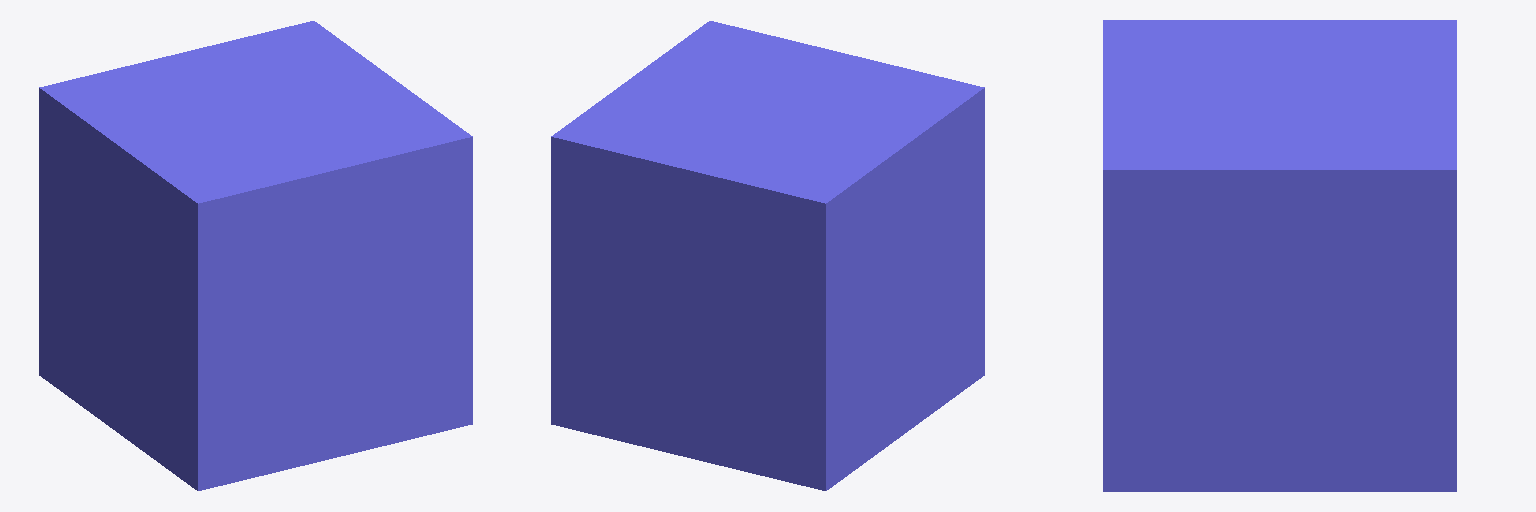
The robot description file, URDF, robot "unit_cube":
<?xml version="1.0"?>
<robot name="unit_cube">
  <material name="black">
    	<color rgba="0.5 0.5 1 1"/>
  </material>
	  
  <link name="base_link">
    <visual>
      <geometry>
        <box size="0.25 0.25 0.25"/>
      </geometry>
      <material name="black"/>
    </visual>
    <collision>
	<origin xyz="0 0 0" rpy="0 0 0"></origin>
	<geometry>
            <box size="0.25 0.25 0.25"/>
      	</geometry>  
    </collision>
    <inertial>
       <mass value="5"/>
       <inertia ixx="0.0175" ixy="0.0" ixz="0.0" iyy="0.0175" iyz="0.0" izz="0.0175"/>
     </inertial>
  </link>
</robot>

--- Facts derived from the render (not from the file) ---
Views: 3 orthographic renders of the robot side by side, from view 1: azimuth 30°, elevation 25°; view 2: azimuth 150°, elevation 25°; view 3: azimuth 270°, elevation 25°.
Robot: unit_cube — 1 links, 0 joints (none); root link base_link; default pose: all joints at 0.
Links seen in each view (by area): view 1: base_link; view 2: base_link; view 3: base_link.
Boxes of the visible links, left/top/right/bottom form: base_link: left=39, top=21, right=472, bottom=490; base_link: left=551, top=21, right=984, bottom=490; base_link: left=1103, top=20, right=1456, bottom=491.
Bounding box of the posed robot: 0.25 × 0.25 × 0.25 m (x, y, z).
Geometry: primitives only (box / cylinder / sphere), no mesh files.